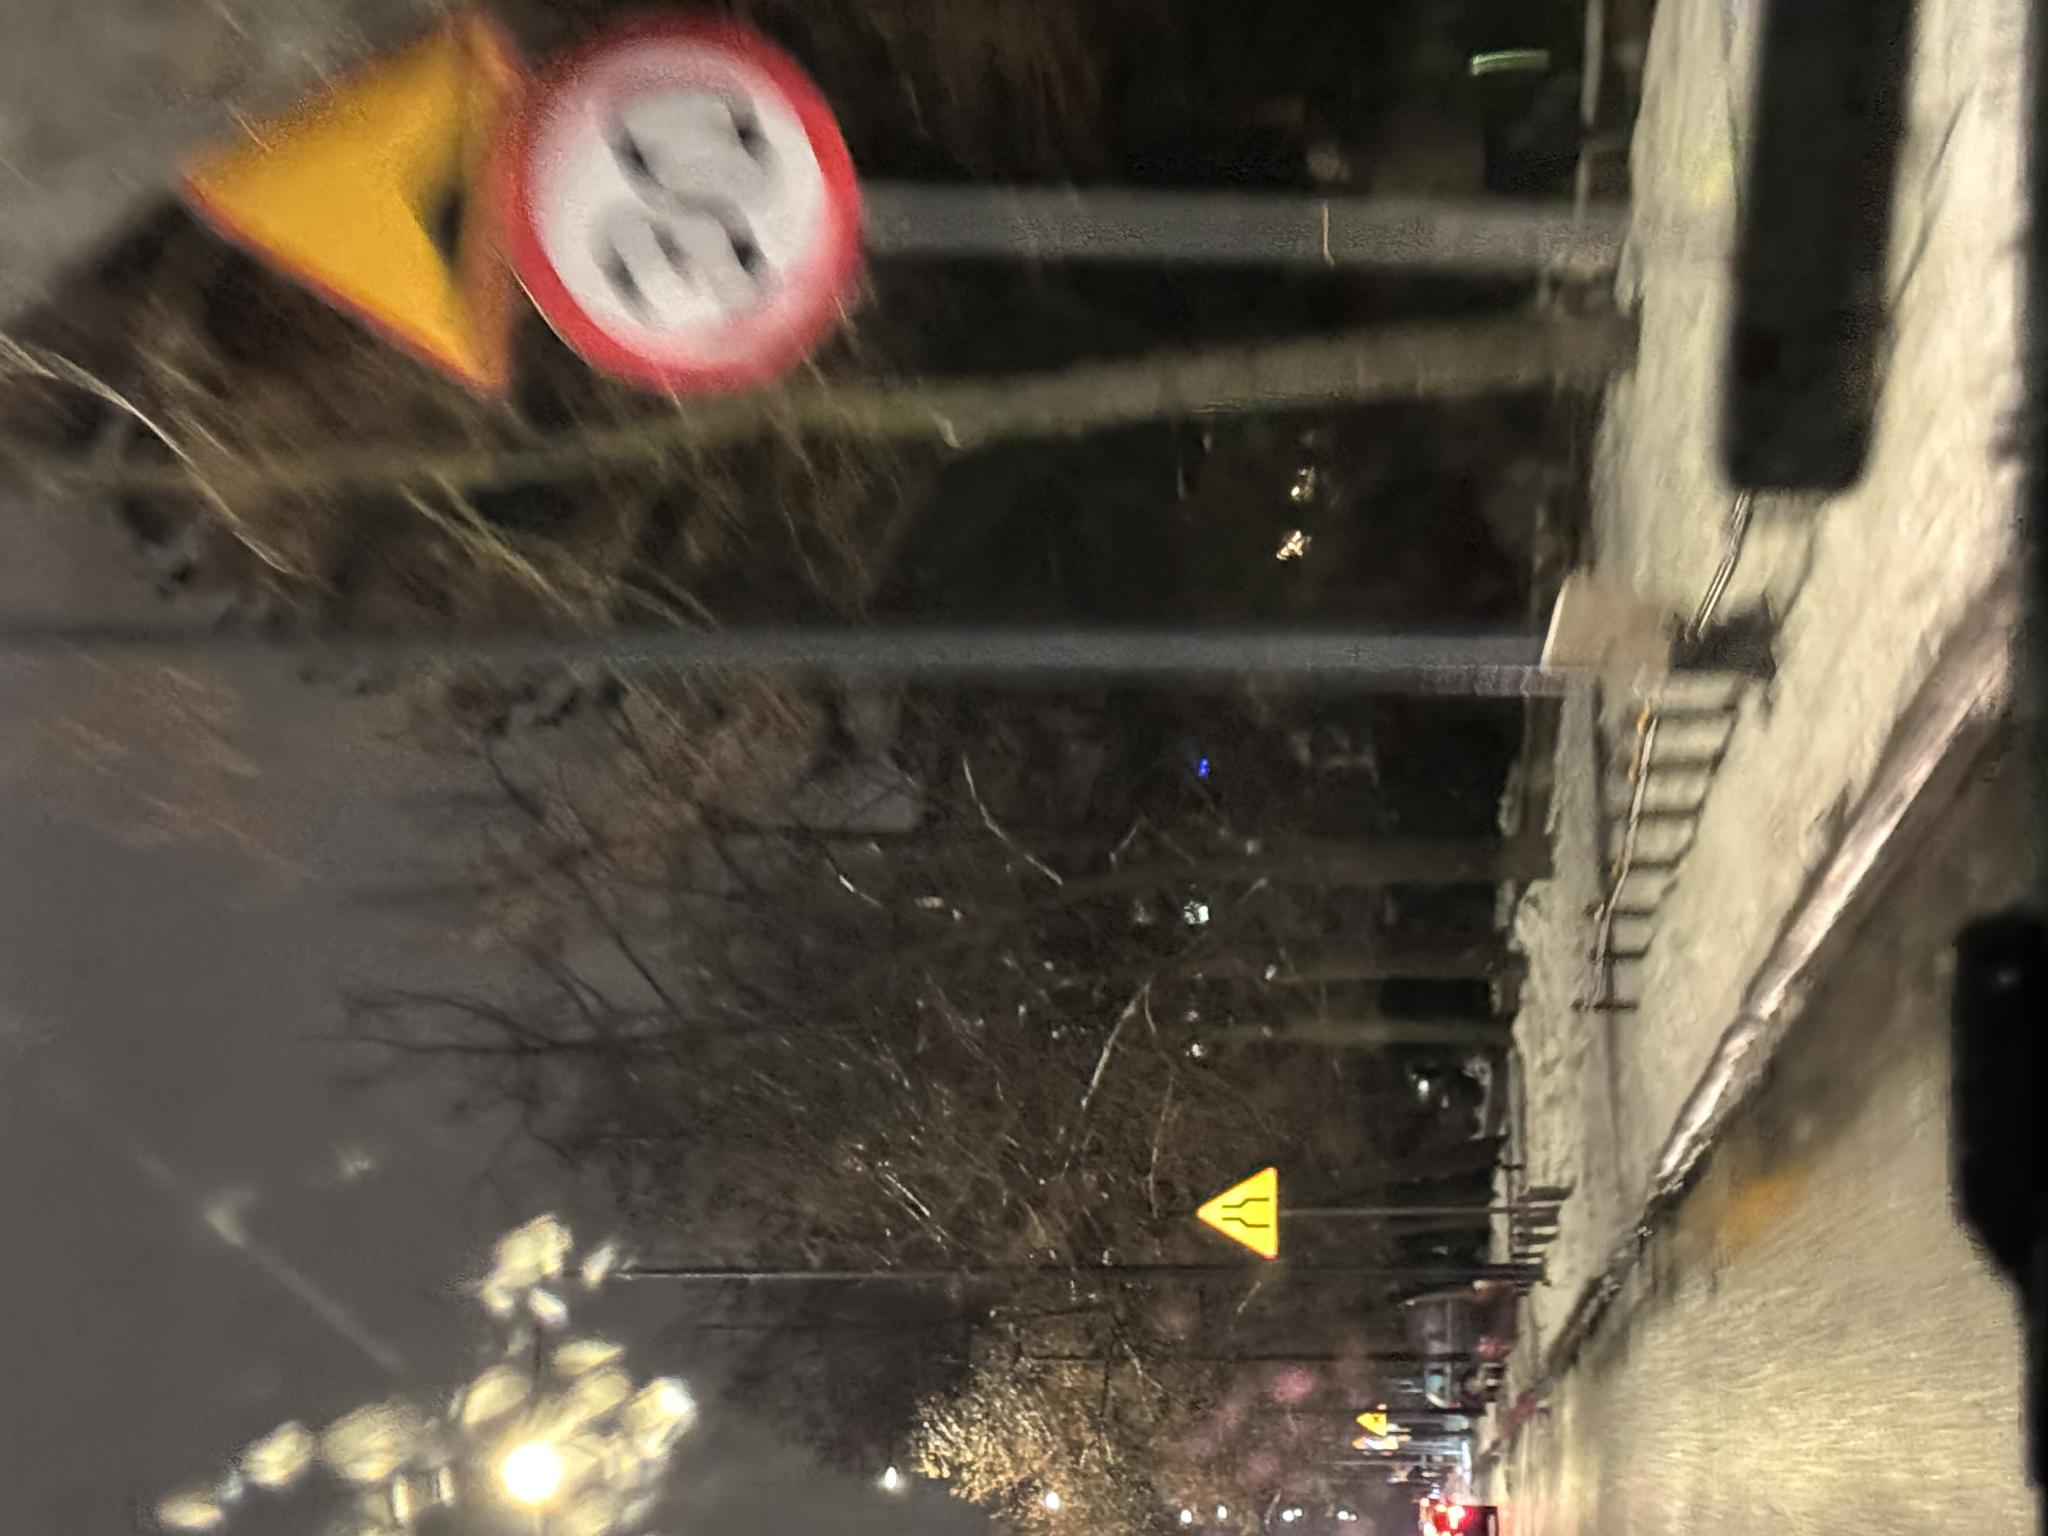prohibitory: (1138, 490, 1536, 866)
warning: (1125, 157, 1531, 522), (275, 1194, 373, 1280), (99, 1356, 123, 1386)
